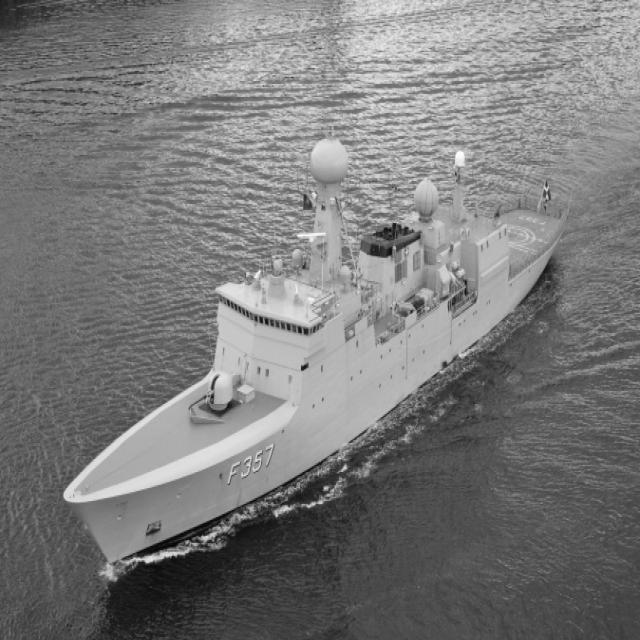Fragata: (58, 129, 600, 581)
